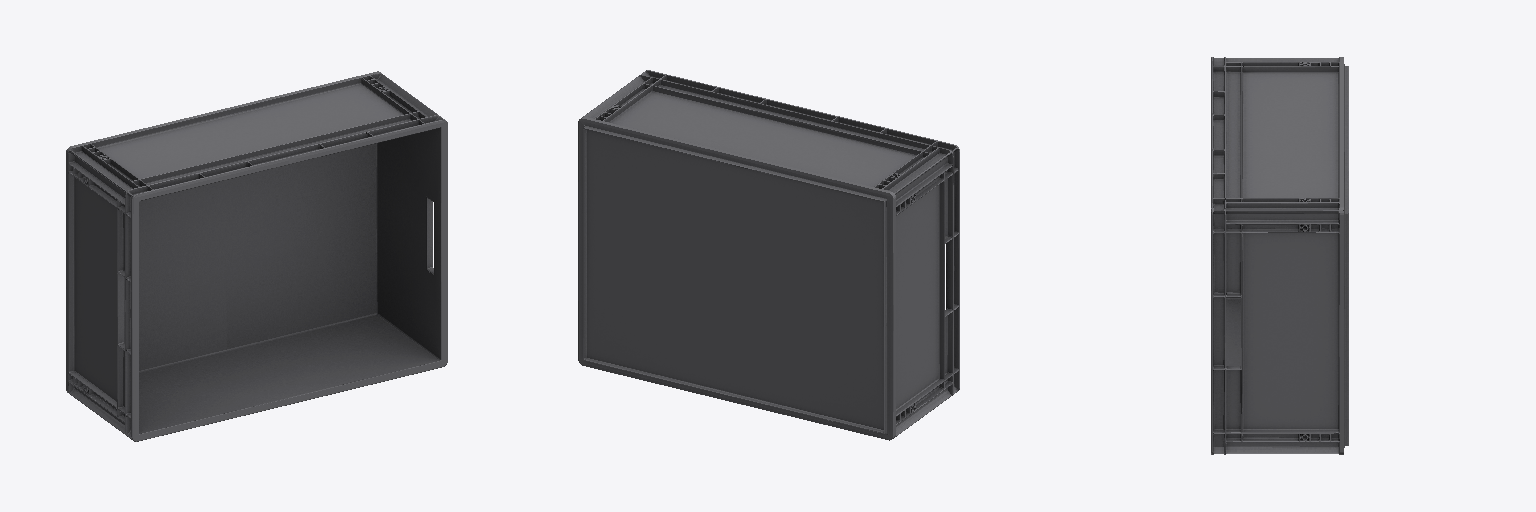
3 renders of one model, left to right at view 1: azimuth 30°, elevation 25°; view 2: azimuth 150°, elevation 25°; view 3: azimuth 270°, elevation 25°, orthographic.
Parts seen in each view (by area): view 1: Kurze_Zwischenstrebe_quer_2_Instanz.2_3; view 2: Kurze_Zwischenstrebe_quer_2_Instanz.2_3; view 3: Kurze_Zwischenstrebe_quer_2_Instanz.2_3.
Part boxes in pixels (left/top/right/bottom): Kurze_Zwischenstrebe_quer_2_Instanz.2_3: left=66, top=71, right=447, bottom=441; Kurze_Zwischenstrebe_quer_2_Instanz.2_3: left=578, top=70, right=959, bottom=440; Kurze_Zwischenstrebe_quer_2_Instanz.2_3: left=1211, top=57, right=1348, bottom=454.
Bounding box in the file's own units: 0.5581 × 0.4181 × 0.21.
1 materials, 1 textured.